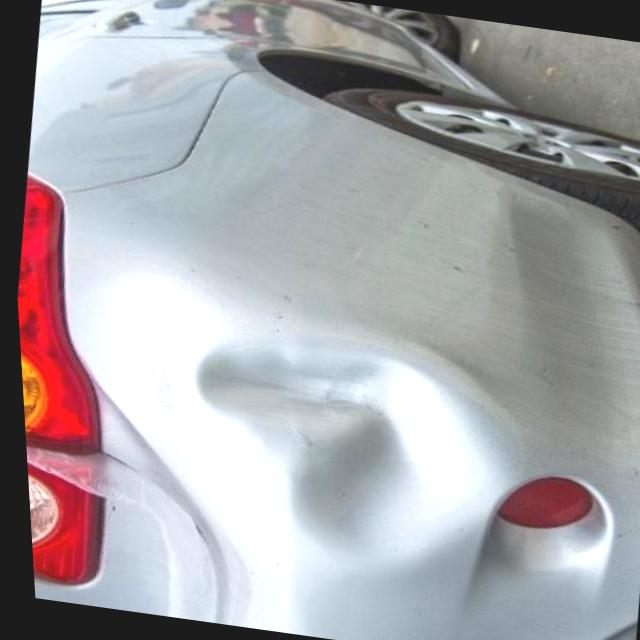Dent: (185, 311, 511, 565)
